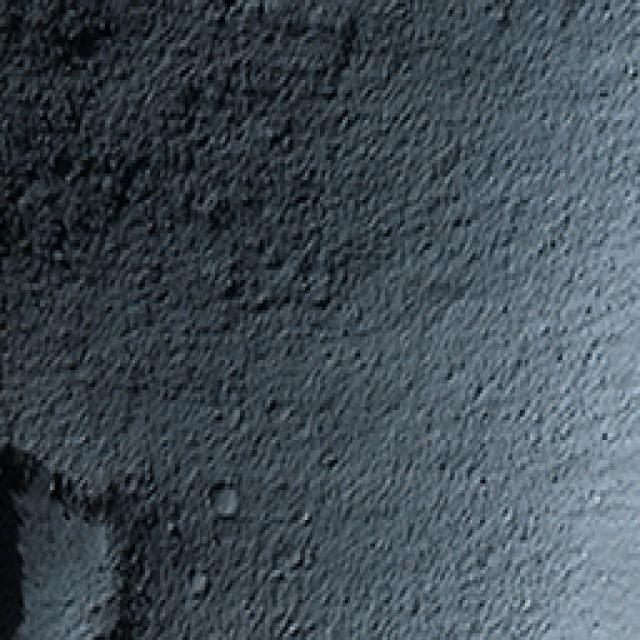Crater: (0, 413, 140, 640)
